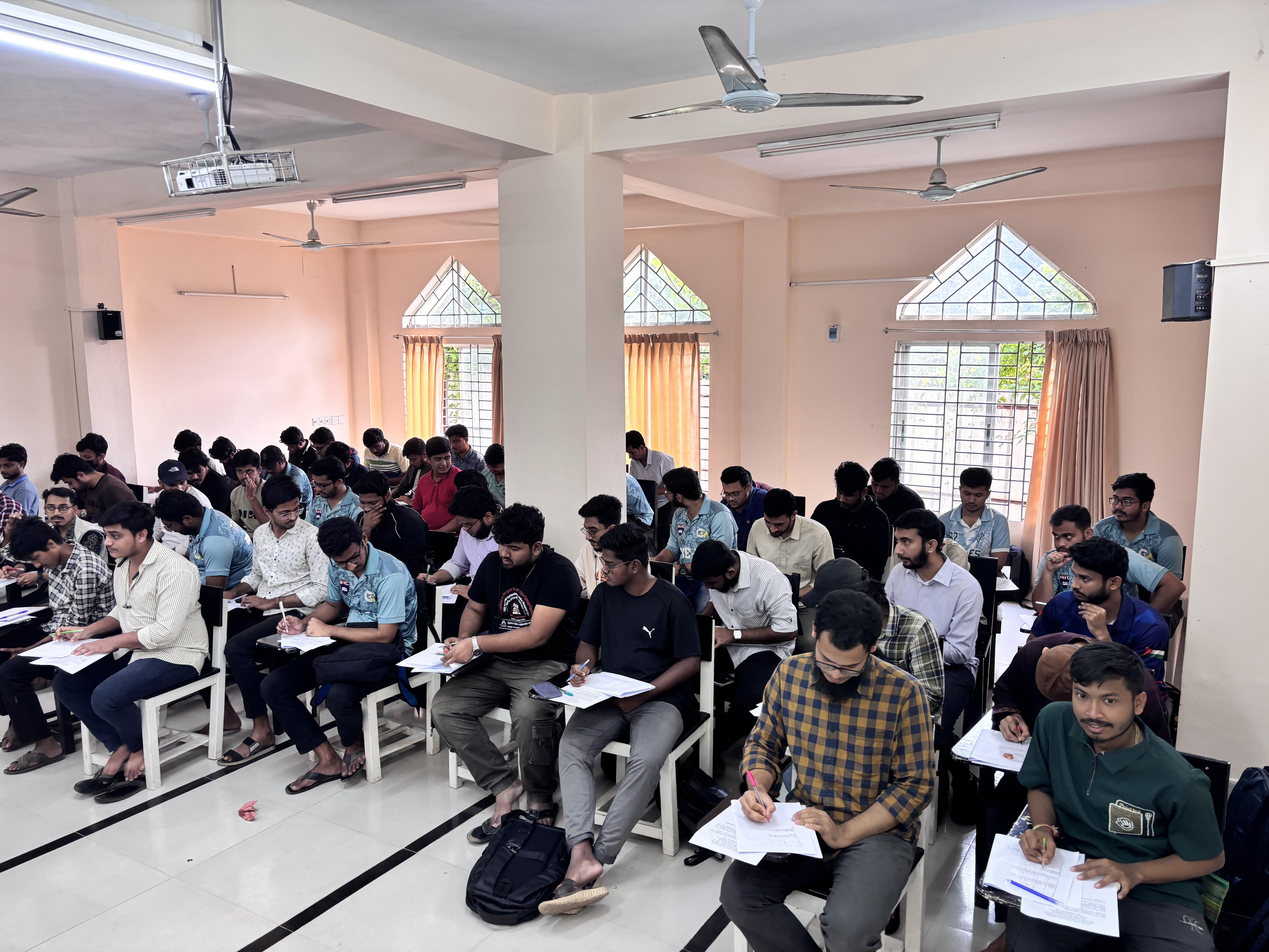copying: (547, 522, 685, 719), (265, 517, 414, 689), (225, 476, 341, 618), (649, 468, 728, 549), (176, 441, 227, 496)
no_cheating: (726, 591, 932, 880), (1001, 638, 1209, 919), (63, 504, 200, 718), (423, 500, 563, 701), (0, 517, 112, 679), (682, 538, 806, 676), (1035, 537, 1145, 671), (882, 506, 980, 652), (748, 489, 825, 614), (146, 490, 243, 588), (338, 458, 424, 557), (1092, 466, 1174, 567), (43, 444, 143, 524), (945, 459, 1011, 561), (818, 459, 879, 569), (1032, 500, 1113, 578), (612, 426, 688, 500), (1, 429, 44, 548), (571, 484, 628, 569), (862, 450, 916, 538), (354, 423, 410, 476), (224, 443, 267, 509), (718, 466, 762, 522), (39, 483, 83, 536), (274, 417, 312, 469), (305, 422, 341, 464)
side_talking: (414, 430, 473, 508)
